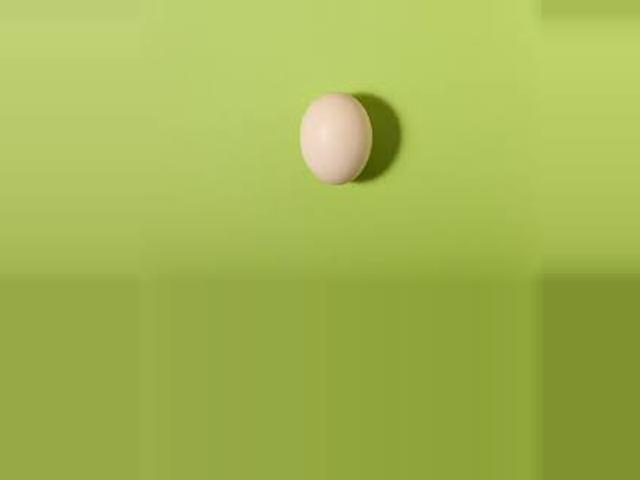egg: (302, 92, 372, 187)
